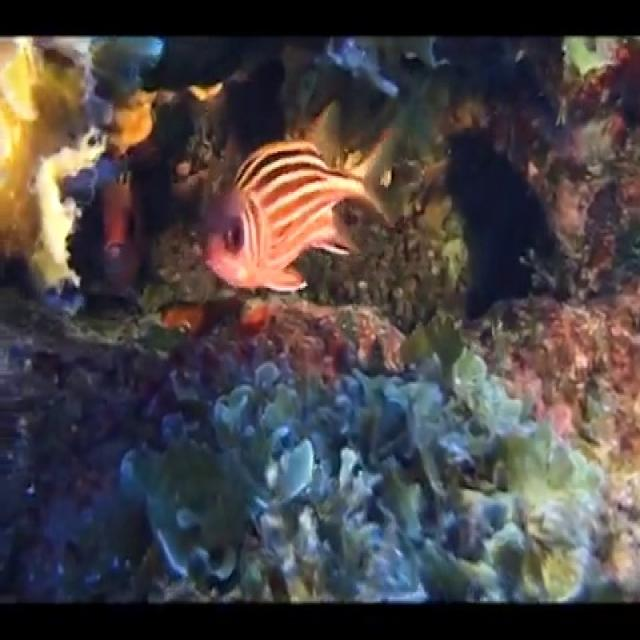Asker Baligi: (199, 133, 393, 295)
